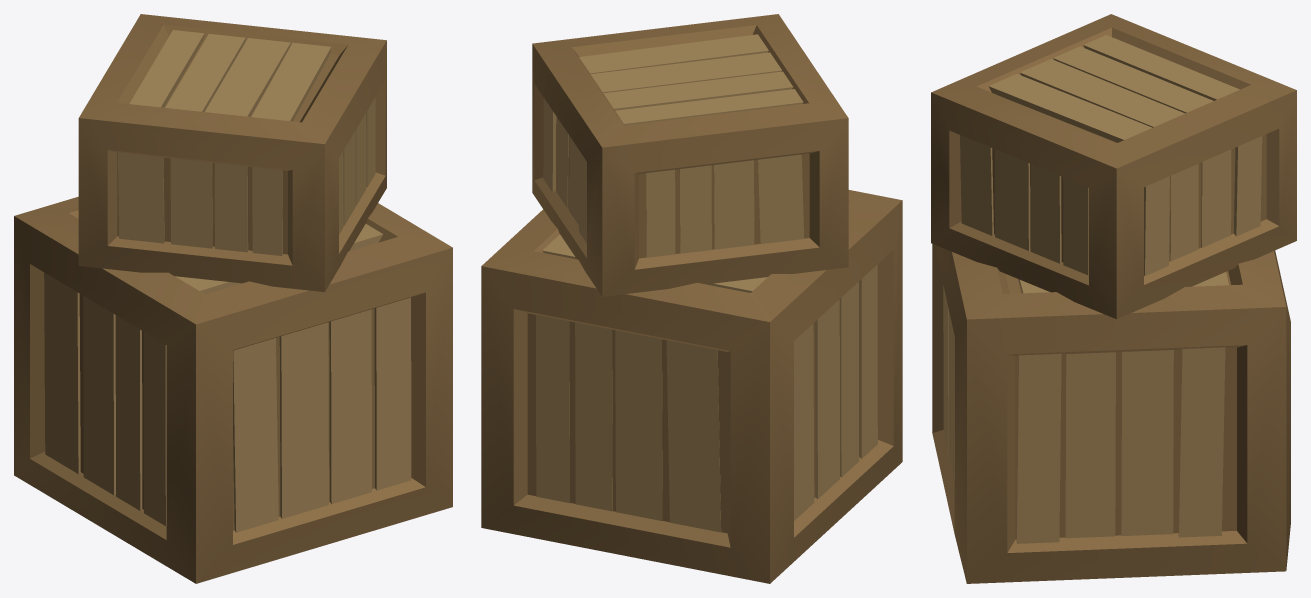
File: Crate_Stack1.glb
The picture shows the model from 3 angles, left to right: view 1: azimuth 30°, elevation 25°; view 2: azimuth 150°, elevation 25°; view 3: azimuth 270°, elevation 25°; orthographic projection.
Visible parts, largest first — view 1: Crate_Stack1; view 2: Crate_Stack1; view 3: Crate_Stack1.
Part boxes in pixels (x1,y1,x2,y2): Crate_Stack1: (14,14,452,583); Crate_Stack1: (481,14,902,583); Crate_Stack1: (931,14,1296,583).
Bounding box in the file's own units: 0.1208 × 0.1573 × 0.1208.
